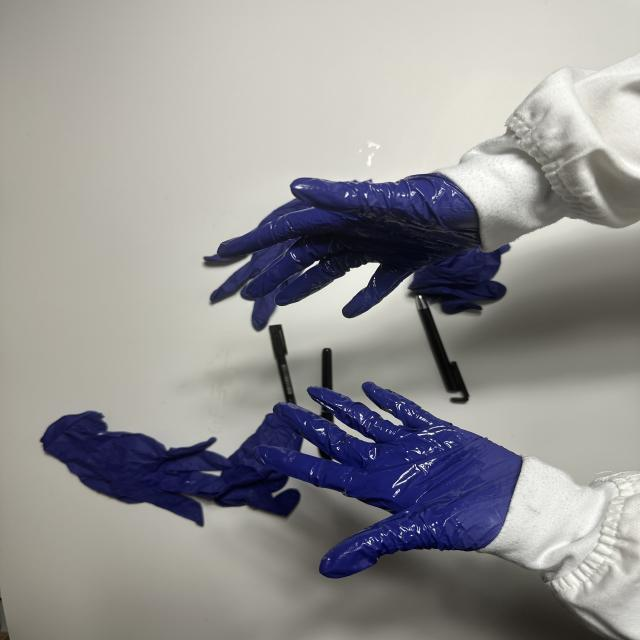gloves_contaminated: (255, 382, 522, 578), (218, 174, 480, 318)
